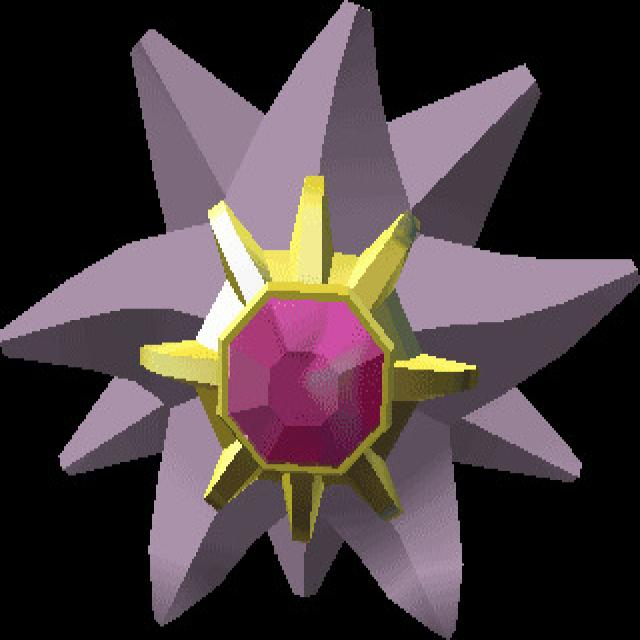Starmie: (58, 31, 574, 606)
